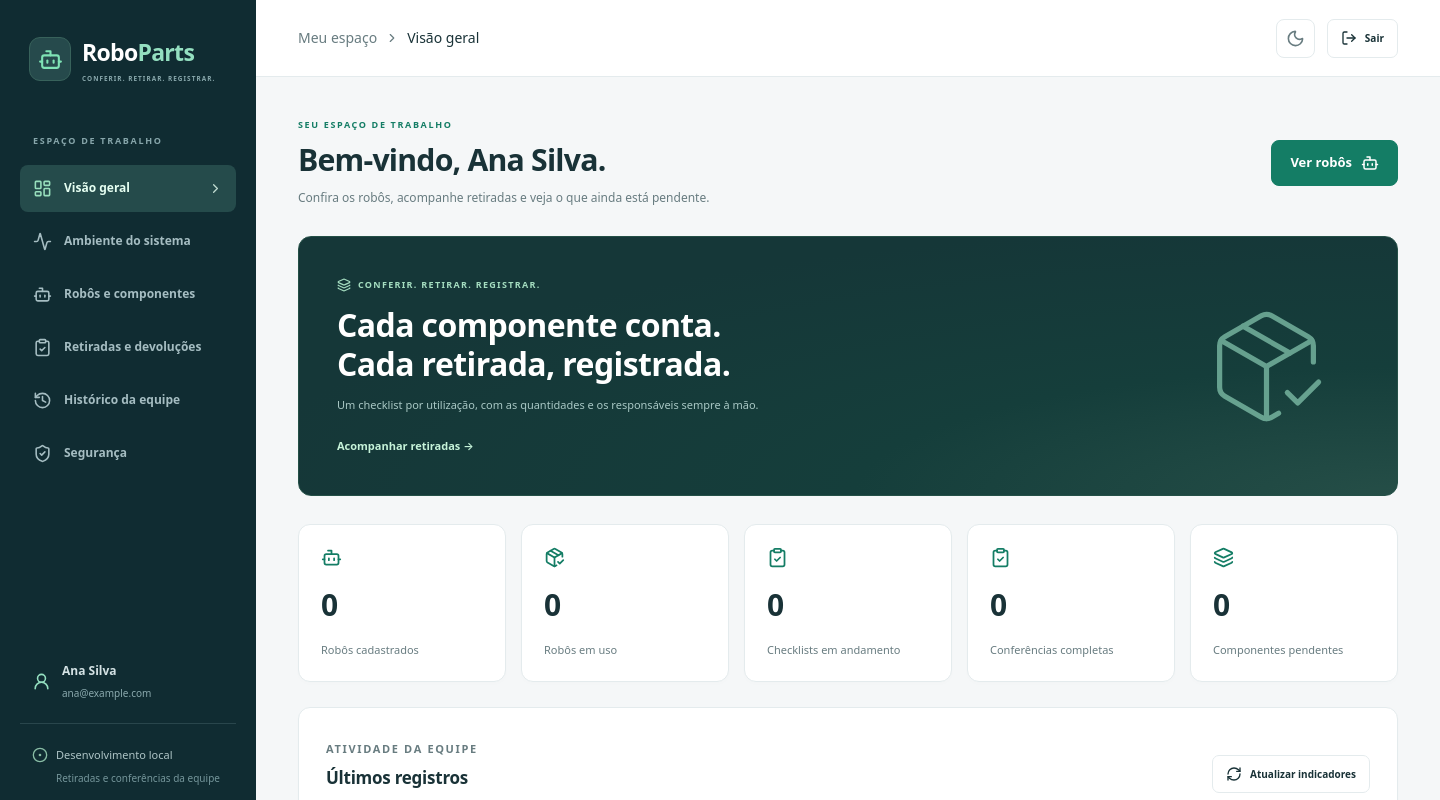
Test: Saída e atividade pessoal › encerra a sessão e limpa o cache privado após logout confirmado
This screenshot has width=1440, height=800.
Expected: the heading "Bem-vindo, Ana Silva." is shown, [298,138,606,180]
Click the button "Sair". click: coordinates (1362, 38)
box: [1327,18,1398,58]
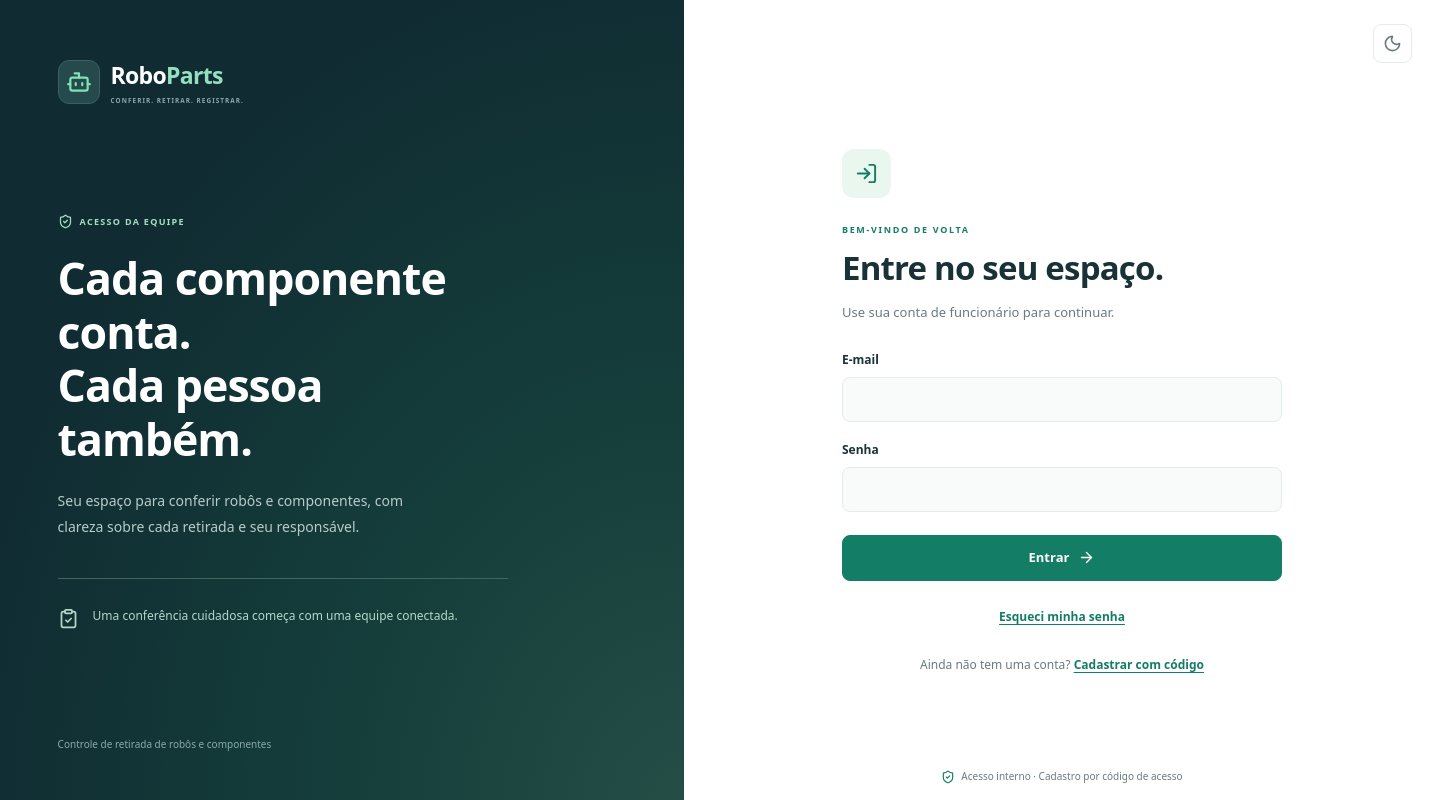
Now the heading "Entre no seu espaço." is shown, box [842,245,1163,290]
